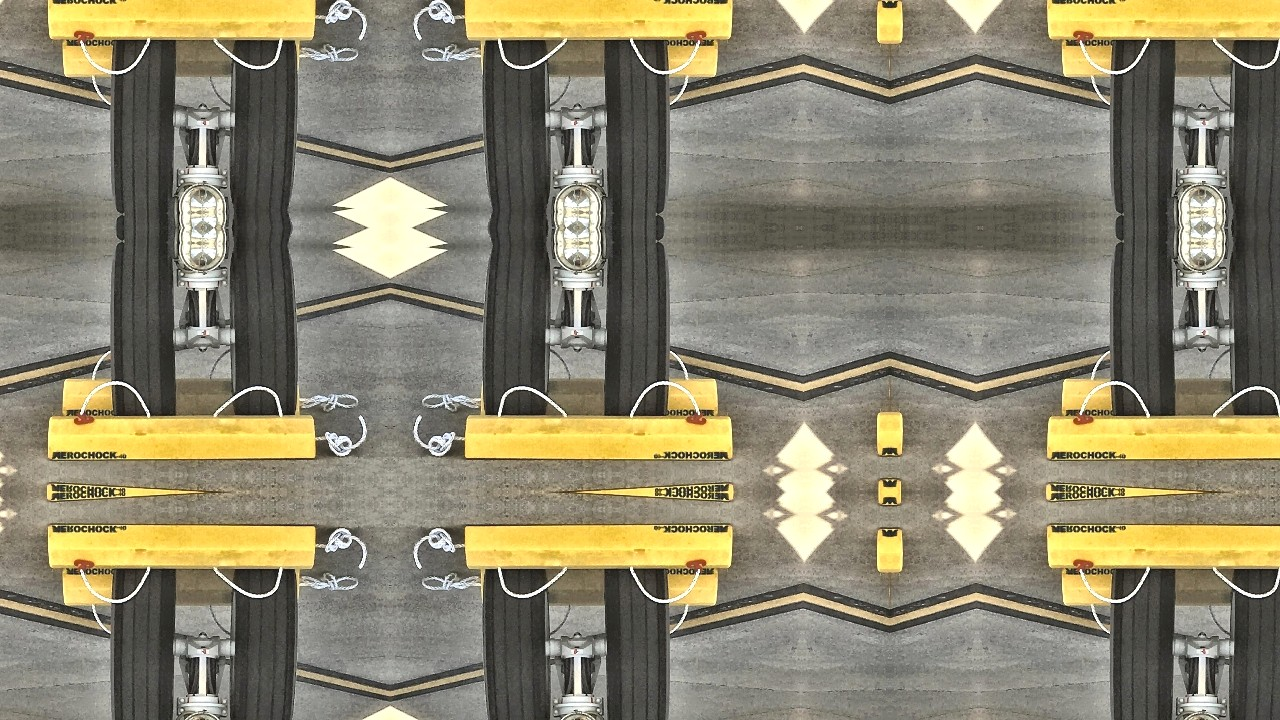chock: (44, 407, 318, 468), (462, 407, 736, 468), (44, 517, 318, 578), (462, 517, 736, 578), (1044, 407, 1280, 468), (1044, 517, 1280, 578), (44, 0, 318, 48), (462, 0, 736, 48), (60, 33, 306, 83), (474, 33, 720, 83), (60, 562, 306, 612), (474, 562, 720, 612), (60, 373, 306, 422), (474, 373, 720, 422), (1044, 0, 1280, 48), (1060, 33, 1280, 83), (1060, 562, 1280, 612), (1060, 373, 1280, 422)
wheel: (225, 38, 300, 211), (480, 38, 555, 211), (225, 244, 300, 417), (480, 244, 555, 417), (106, 242, 176, 419), (604, 242, 674, 419), (1106, 242, 1176, 419), (106, 37, 176, 213), (604, 37, 674, 213), (1106, 37, 1176, 213), (225, 568, 300, 720), (480, 568, 555, 720), (106, 566, 176, 720), (604, 566, 674, 720), (1106, 566, 1176, 720), (1225, 38, 1280, 211), (1225, 244, 1280, 417), (1225, 568, 1280, 720)
